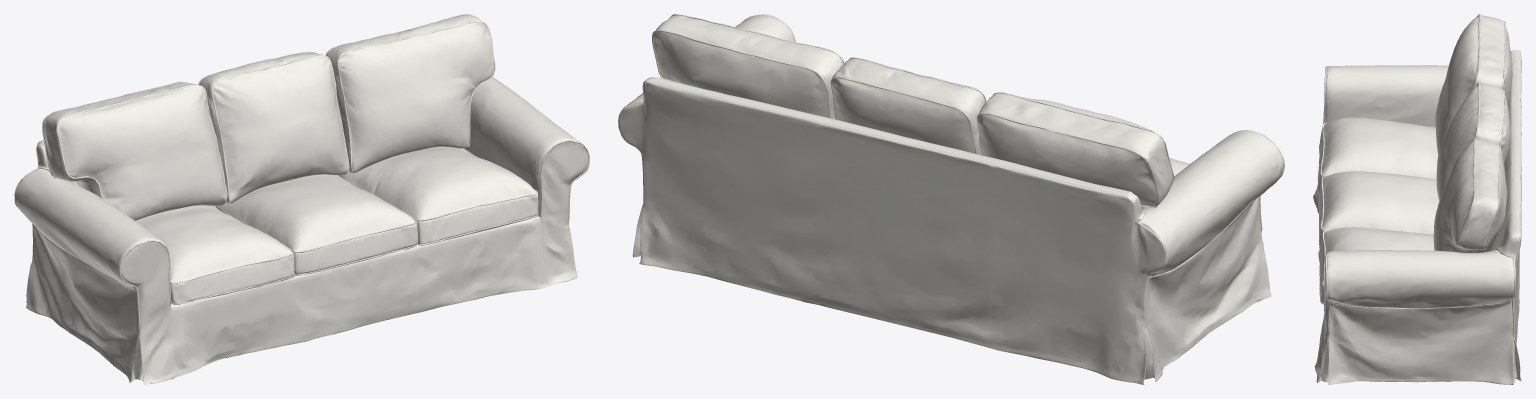
Rendered from ikea-uppland-sofa.glb.
3 renders of one model, left to right at view 1: azimuth 30°, elevation 25°; view 2: azimuth 150°, elevation 25°; view 3: azimuth 270°, elevation 25°, orthographic. The views are drawn at different scales.
Visible parts, largest first — view 1: Mesh_0; view 2: Mesh_0; view 3: Mesh_0.
Boxes of the visible parts, x1,y1,x2,y2 form: Mesh_0: (14,14,589,384); Mesh_0: (618,14,1284,384); Mesh_0: (1313,14,1521,384).
Bounding box in the file's own units: 2.2 × 0.9118 × 0.9269.
Materials: 2 (2 with a texture image).
